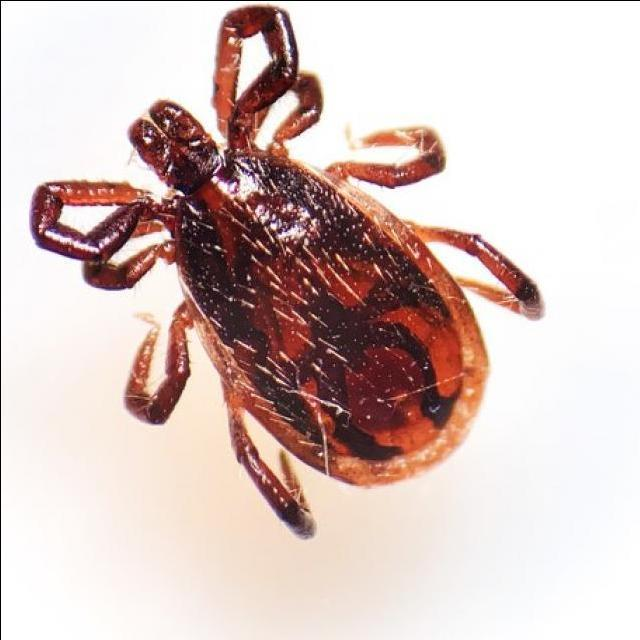Ixodes Ricinus-M: (27, 4, 543, 538)
